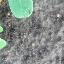Purslane: (0, 0, 64, 55)
